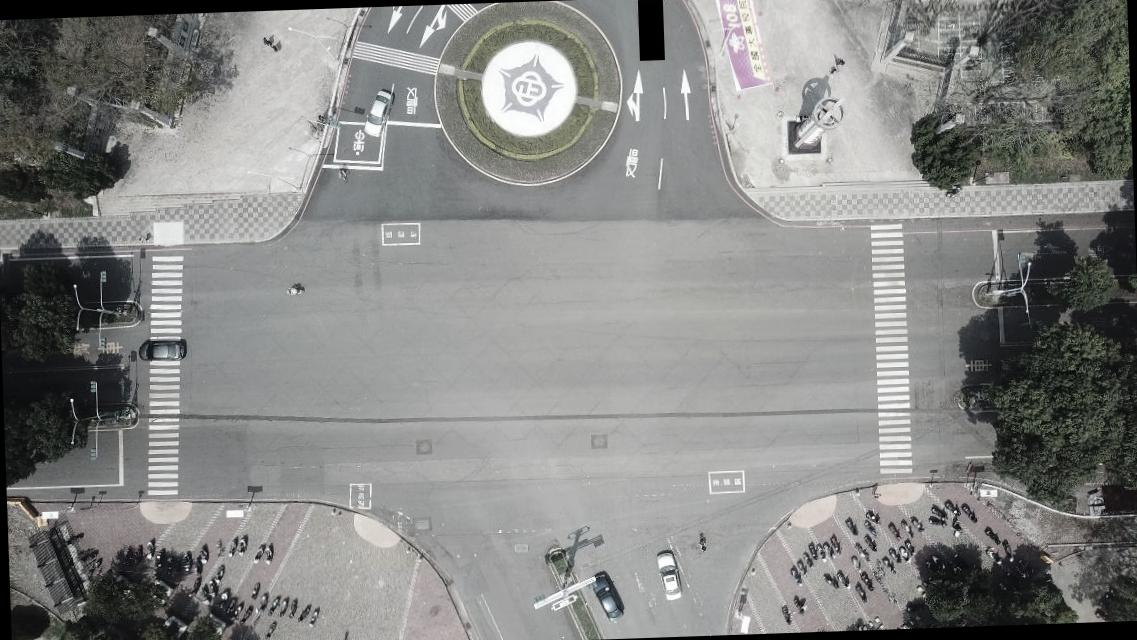vehicle: (590, 574, 624, 622), (362, 89, 394, 137), (656, 550, 682, 601), (138, 339, 186, 361)
